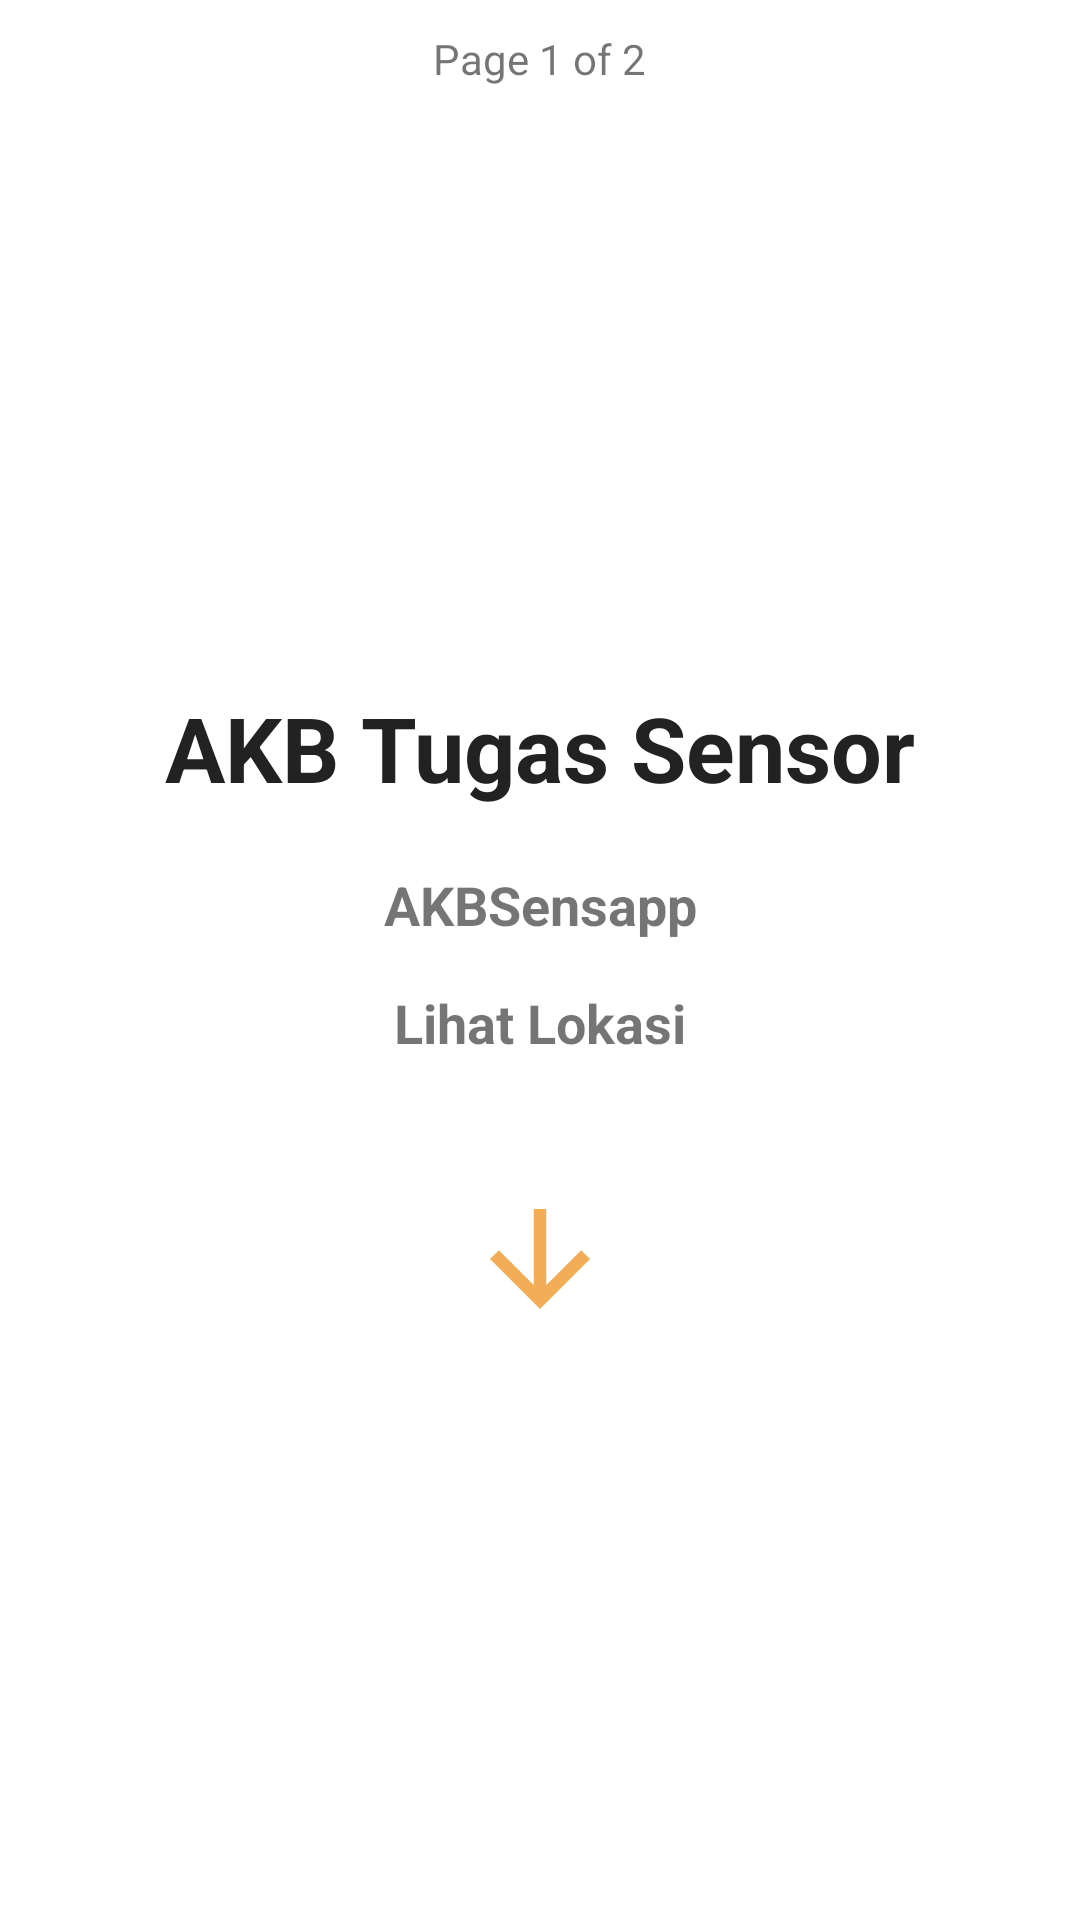

Icons on this 1080*1920 Android screen, each with the point to tap as [x,y]:
arrow downward: [540,1259]
